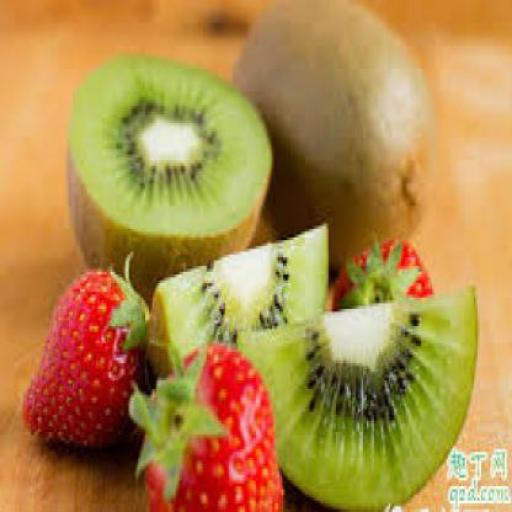biodegradable: (232, 284, 474, 509), (227, 0, 437, 252), (64, 54, 270, 289), (21, 266, 173, 455), (129, 346, 281, 509), (136, 220, 327, 346), (330, 238, 436, 323)
